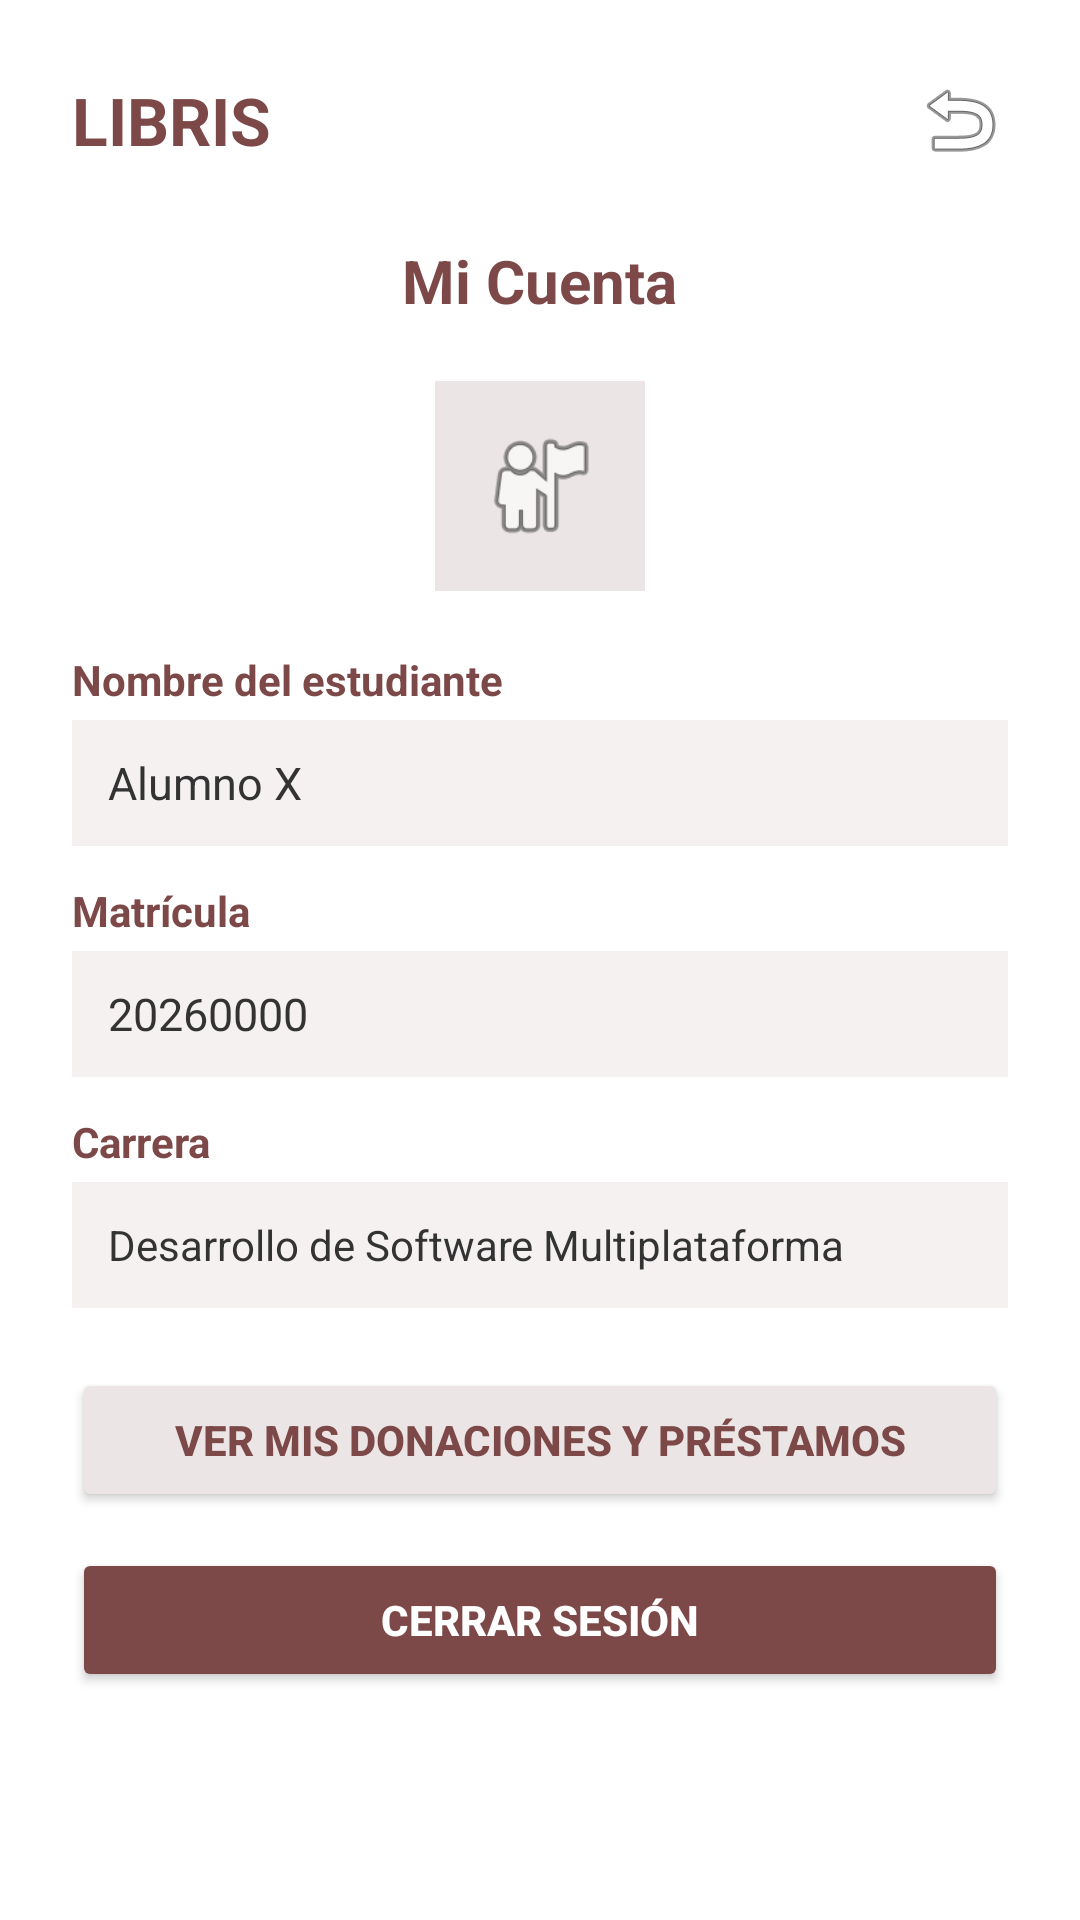

Locate icon controls on the screen. Image size 1080 x 1920, boxes as [x1,y1,x2,y2].
myplaces: [435,381,645,591]
Regresar: [927,89,996,152]
